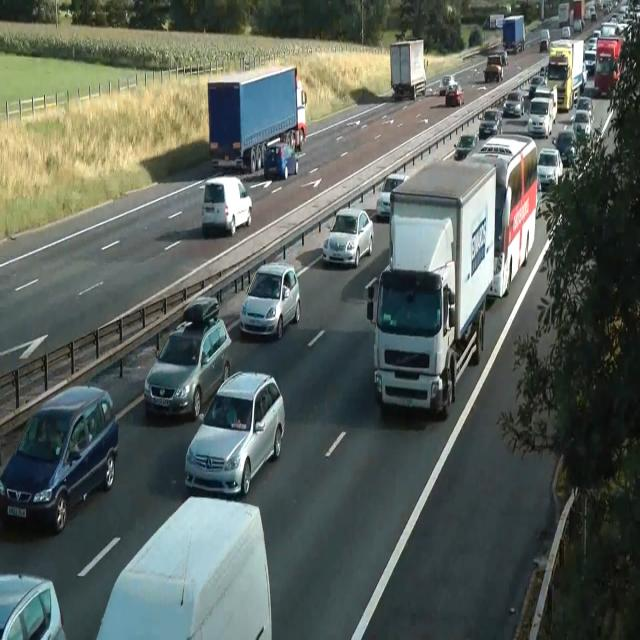bus: (238, 260, 300, 340), (0, 571, 66, 639), (322, 207, 374, 269), (202, 175, 252, 237), (376, 172, 410, 220), (263, 143, 299, 181), (182, 296, 219, 324), (532, 85, 558, 123), (552, 129, 578, 166), (571, 109, 593, 143), (478, 108, 502, 138), (453, 133, 475, 160), (502, 91, 524, 117), (576, 96, 594, 122), (445, 82, 464, 106), (529, 74, 547, 97), (483, 63, 503, 83), (487, 49, 509, 66), (438, 75, 456, 95), (535, 170, 541, 218), (540, 28, 550, 52), (585, 2, 597, 21), (581, 60, 587, 90), (562, 26, 570, 37)
car: (96, 494, 272, 638)
jeep: (0, 384, 119, 534), (183, 369, 285, 497), (143, 298, 232, 421), (536, 147, 562, 190), (527, 95, 552, 138)
minibus: (365, 157, 497, 417), (463, 132, 538, 298), (207, 64, 307, 173), (546, 38, 587, 111), (389, 38, 427, 100), (280, 77, 306, 151), (502, 14, 525, 54), (558, 0, 584, 33), (558, 1, 570, 28), (489, 13, 504, 30)
